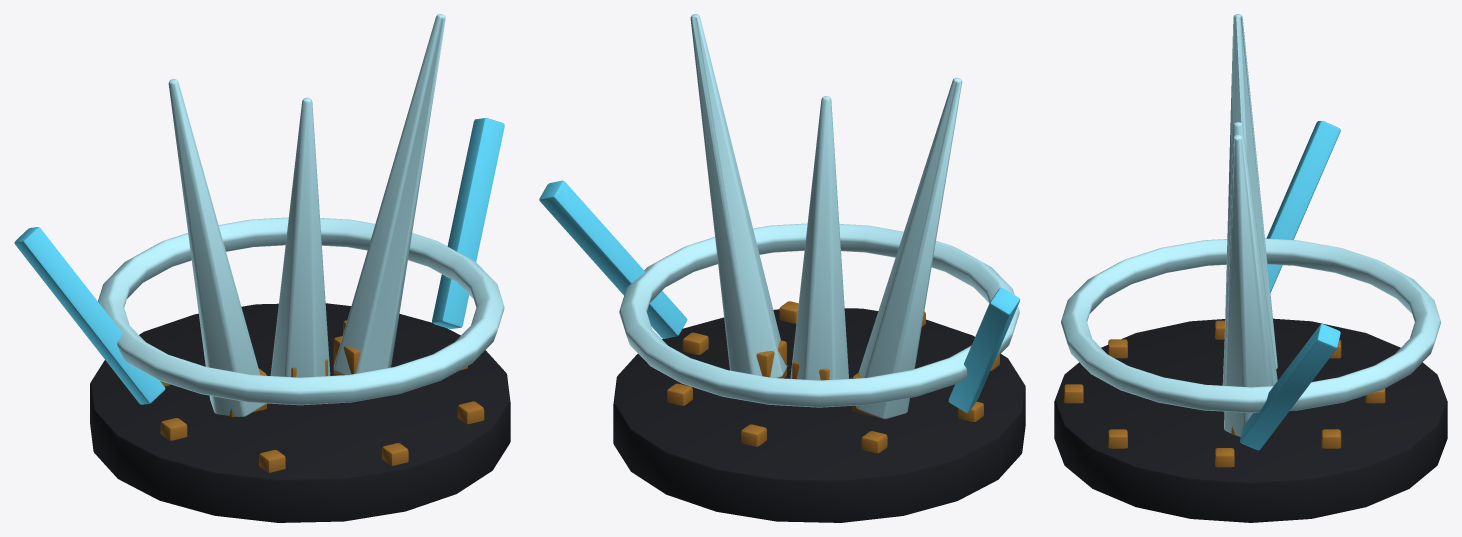
The model's file is BranchA2.obj.
3 views of the same model, side by side, from view 1: azimuth 30°, elevation 25°; view 2: azimuth 150°, elevation 25°; view 3: azimuth 270°, elevation 25° (orthographic). The views are drawn at different scales.
Visible parts, largest first — view 1: BranchA2; view 2: BranchA2; view 3: BranchA2.
Part boxes in pixels (box(x1,y1,x2,y2)): BranchA2: box(14, 14, 510, 522); BranchA2: box(539, 14, 1025, 522); BranchA2: box(1054, 14, 1447, 522).
Size of the model in its own units: 0.789 by 0.6157 by 0.6.
